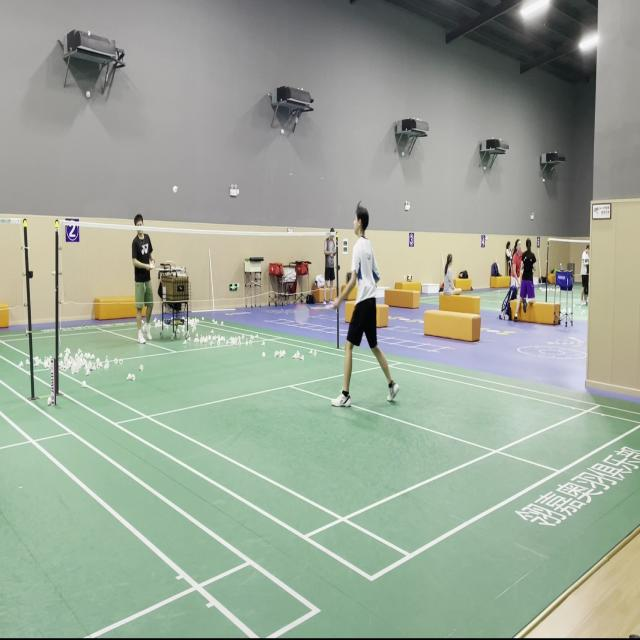shuttlecock: (172, 184, 178, 194)
